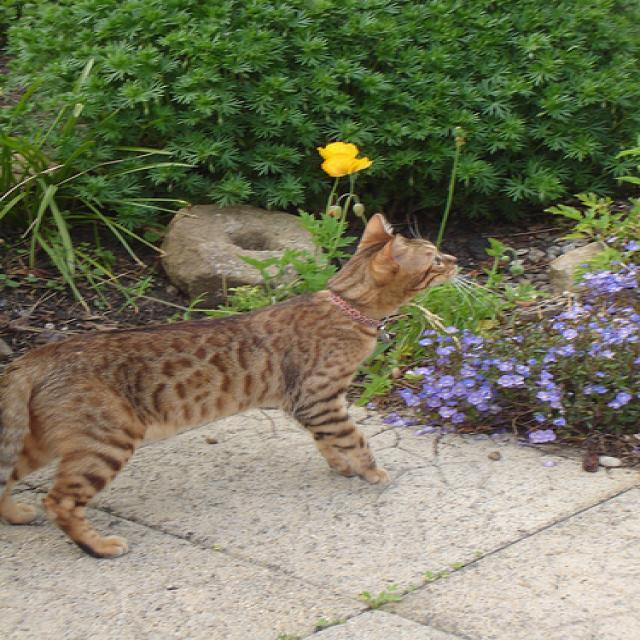Bengal: (331, 209, 472, 329)
